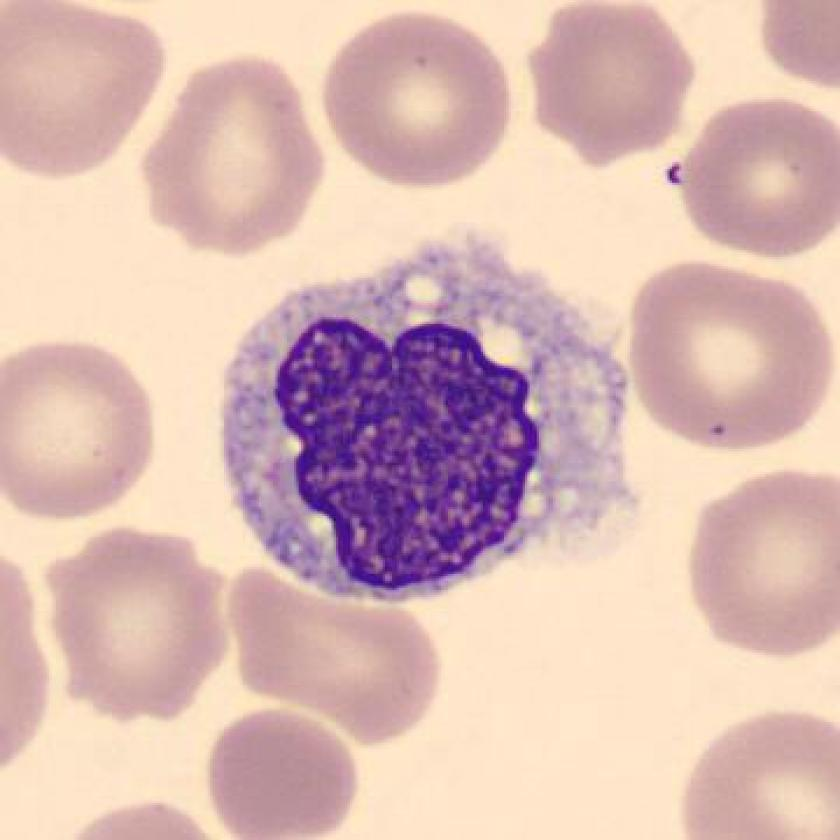monocyte: (204, 216, 666, 633)
